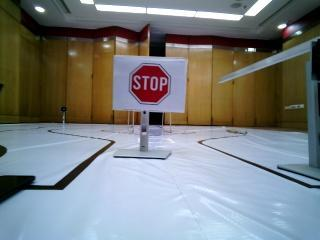stop: (115, 55, 181, 108)
